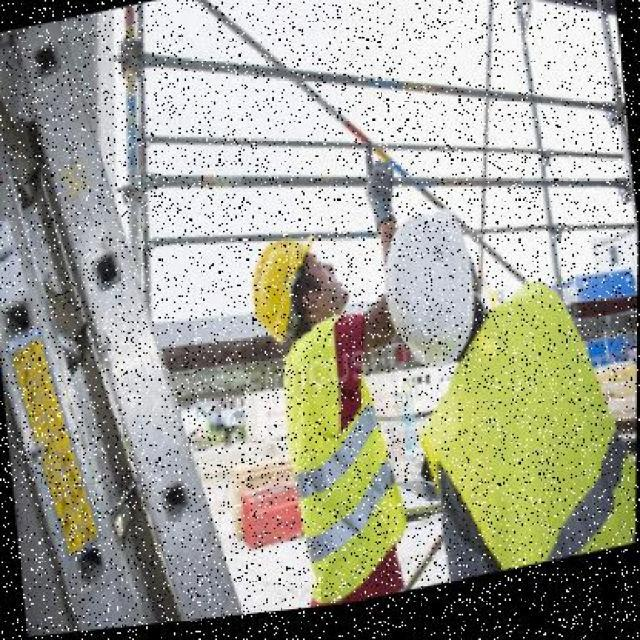helmet: (374, 219, 489, 383), (249, 229, 309, 347)
vest: (439, 368, 637, 590), (275, 325, 413, 603)
